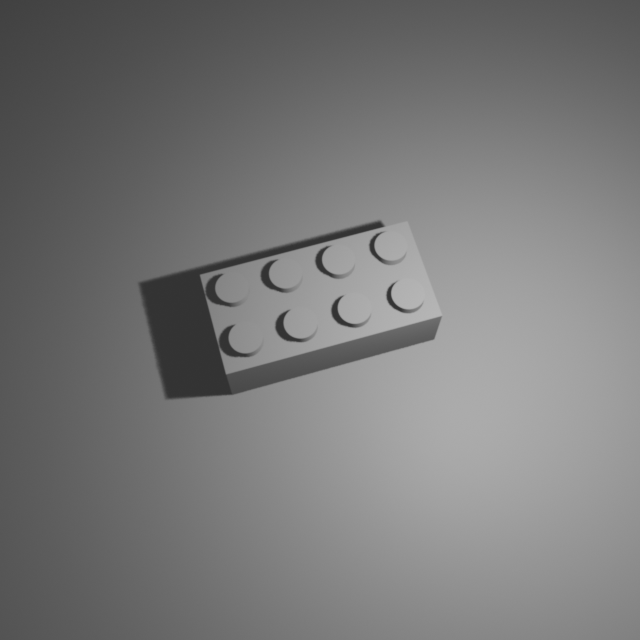lego_2x4: (199, 216, 444, 395)
